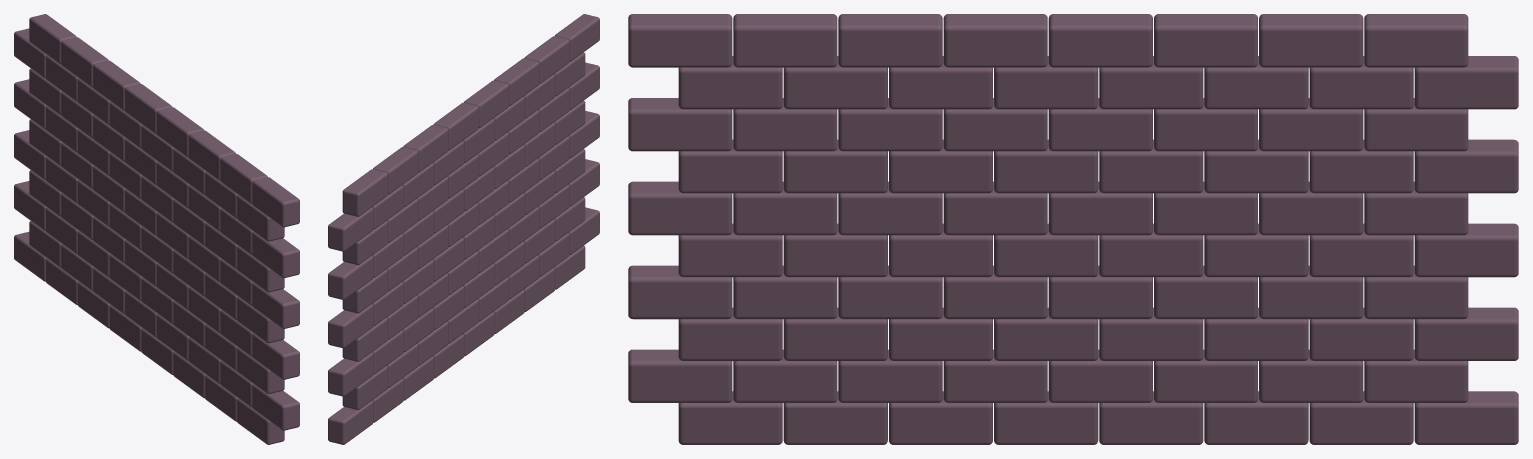
Rendered from Game Jam 2 Wall.fbx.
3 views of the same model, side by side, from view 1: azimuth 30°, elevation 25°; view 2: azimuth 150°, elevation 25°; view 3: azimuth 270°, elevation 25° (orthographic). The views are drawn at different scales.
Visible parts, largest first — view 1: wall; view 2: wall; view 3: wall.
Boxes of the visible parts, <box> form: wall: <box>14,14,299,444</box>; wall: <box>328,14,599,444</box>; wall: <box>628,14,1518,444</box>.
Size of the model in its own units: 15 by 200 by 385.
